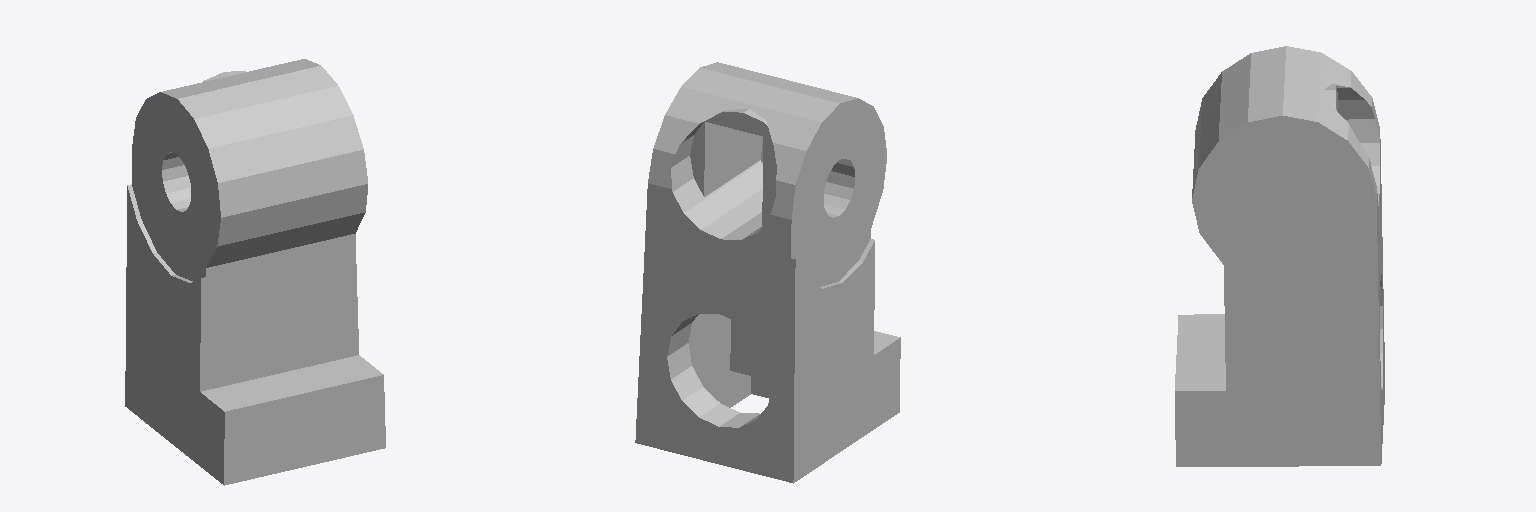
Rendered from piernaizq.obj.
3 views of the same model, side by side, from view 1: azimuth 30°, elevation 25°; view 2: azimuth 150°, elevation 25°; view 3: azimuth 270°, elevation 25° (orthographic).
Visible parts, largest first — view 1: piernaIzqHomero; view 2: piernaIzqHomero; view 3: piernaIzqHomero.
Boxes of the visible parts, x1=… form: piernaIzqHomero: x1=125, y1=59, x2=385, y2=485; piernaIzqHomero: x1=635, y1=62, x2=900, y2=483; piernaIzqHomero: x1=1175, y1=46, x2=1384, y2=466.
Size of the model in its own units: 1.19 by 2.4 by 1.32.